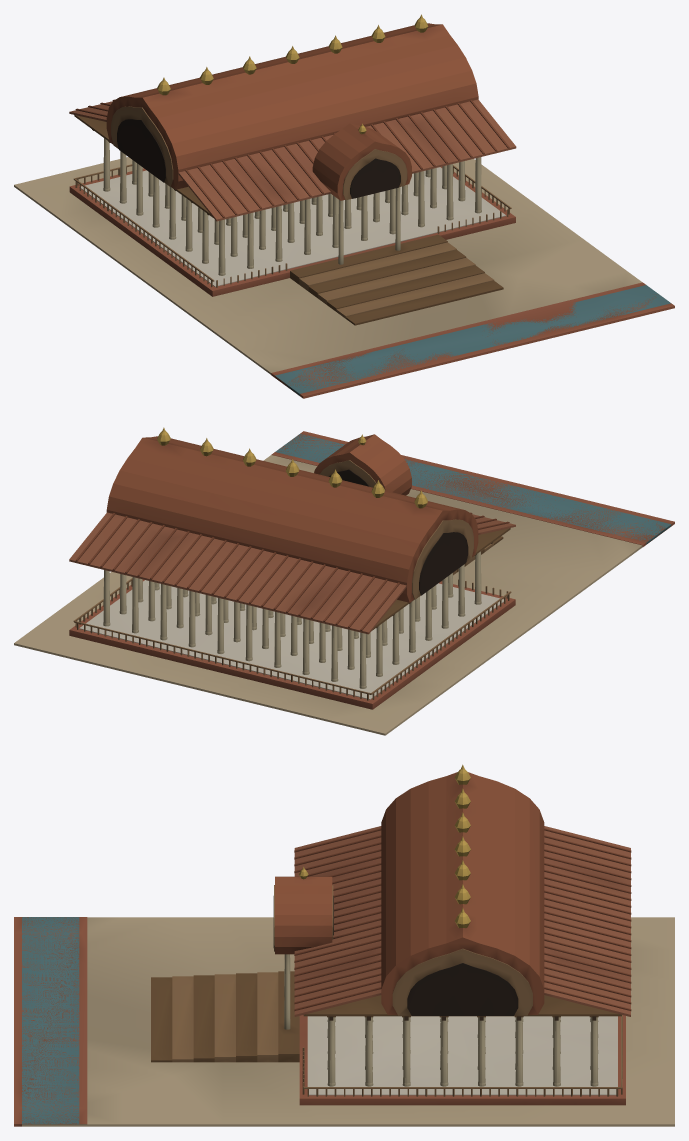
File: pillared-hall.glb
3 views of the same model, one above another, from view 1: azimuth 30°, elevation 25°; view 2: azimuth 150°, elevation 25°; view 3: azimuth 270°, elevation 25° (orthographic). The views are drawn at different scales.
Parts seen in each view (by area): view 1: p0_floor and landing, p3_roof, p1_columns, p2_beams; view 2: p0_floor and landing, p3_roof, p1_columns, p2_beams; view 3: p0_floor and landing, p3_roof, p1_columns, p2_beams.
Boxes of the visible parts, x1=… form: p0_floor and landing: x1=14, y1=157, x2=674, y2=398; p3_roof: x1=69, y1=14, x2=516, y2=221; p1_columns: x1=103, y1=138, x2=481, y2=275; p2_beams: x1=73, y1=129, x2=511, y2=287; p0_floor and landing: x1=14, y1=431, x2=674, y2=735; p3_roof: x1=69, y1=427, x2=515, y2=634; p1_columns: x1=103, y1=551, x2=481, y2=688; p2_beams: x1=73, y1=542, x2=511, y2=700; p0_floor and landing: x1=14, y1=917, x2=674, y2=1126; p3_roof: x1=273, y1=764, x2=631, y2=1016; p1_columns: x1=284, y1=954, x2=598, y2=1086; p2_beams: x1=302, y1=1015, x2=622, y2=1096.
Size of the model in its own units: 60.03 by 25.3 by 81.
